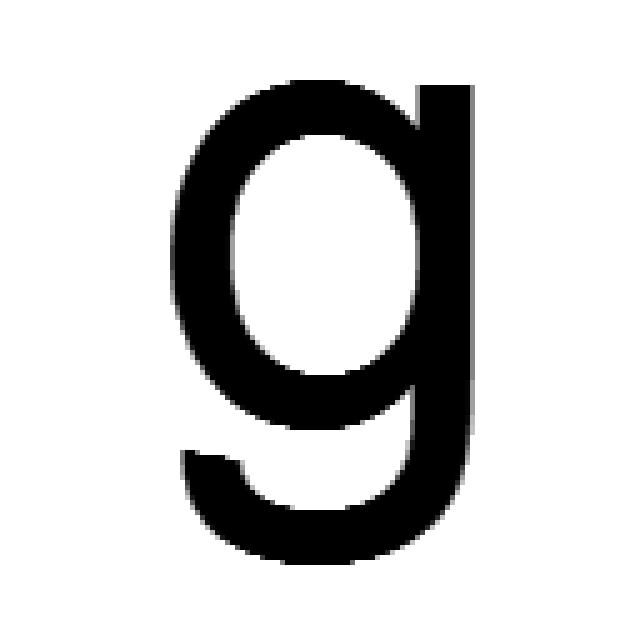G: (160, 70, 480, 570)
